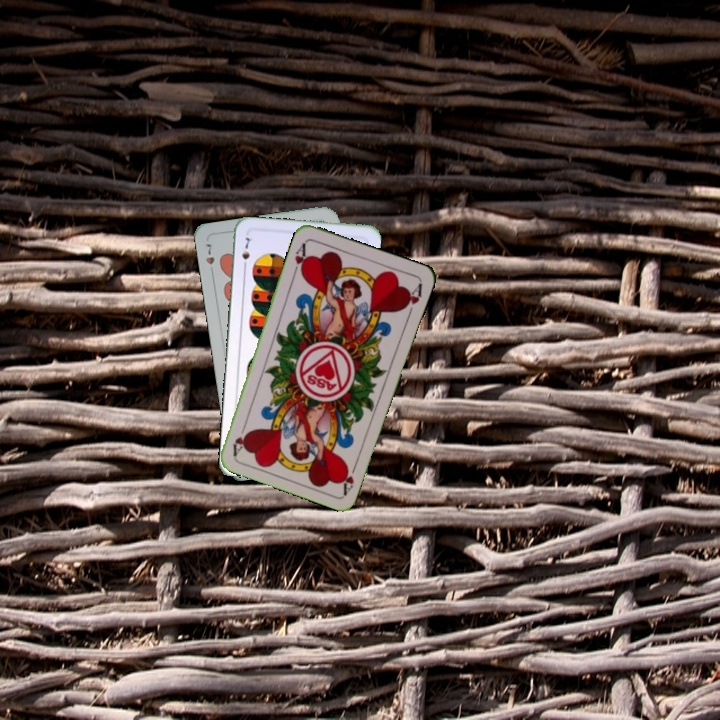H7: (201, 240, 217, 278)
HA: (337, 457, 360, 496), (289, 239, 310, 278)
S7: (238, 233, 255, 272)
